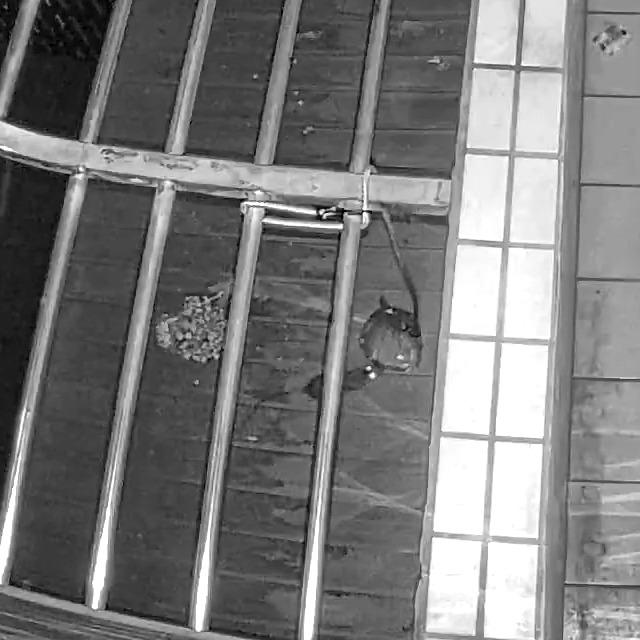rat: (233, 360, 387, 433)
